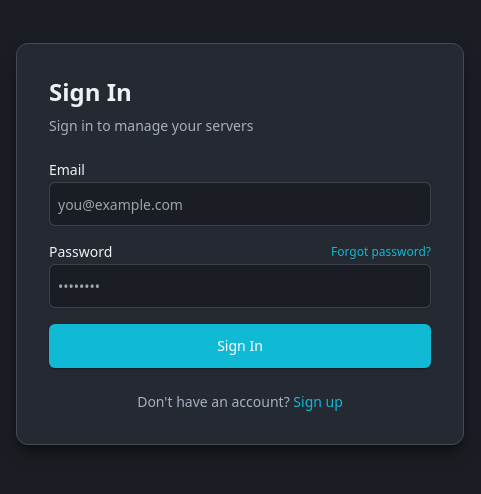
Test case: LoginPage › displays error message on sign in failure
Type "test@example.com" into the field labelled "Email" at (240, 204), box [49,182,431,226]
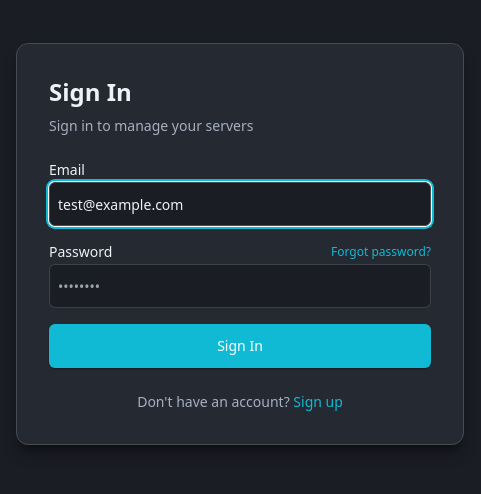
Type "wrongpassword" into the password field labelled "Password" at (240, 286), box [49,264,431,308]
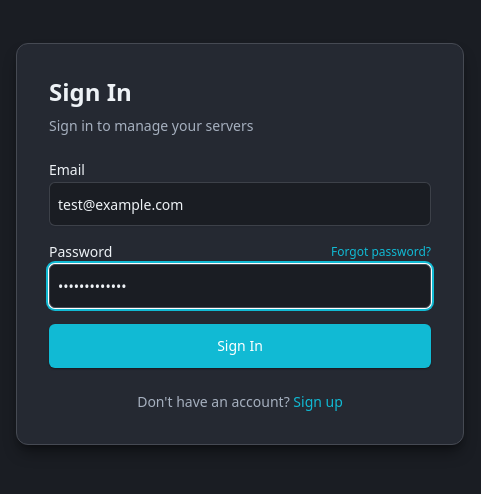
Click the button "Sign In" at (240, 346), box [49,324,431,368]
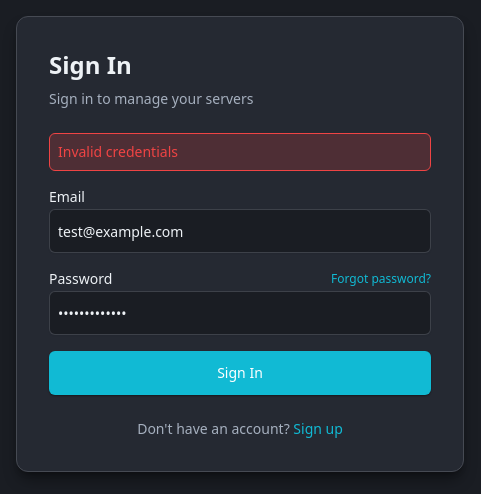
Result: the text "Invalid credentials" is shown at [49,133,431,171]
